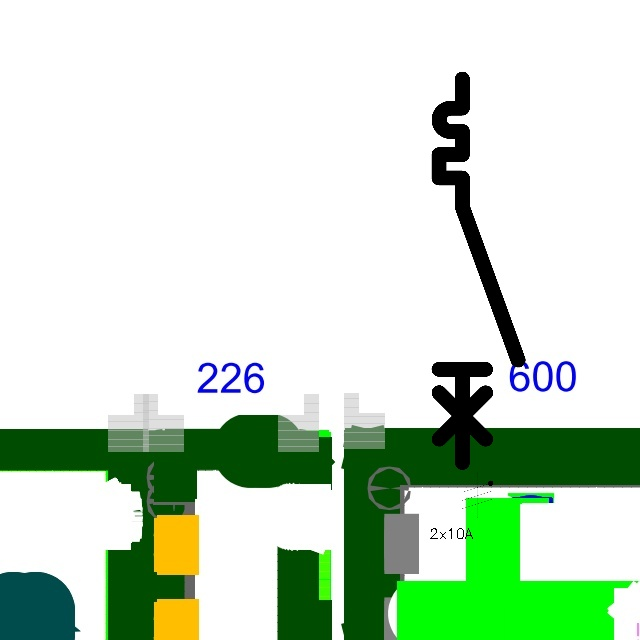interruptor_termomagnetico: (429, 69, 527, 472)
